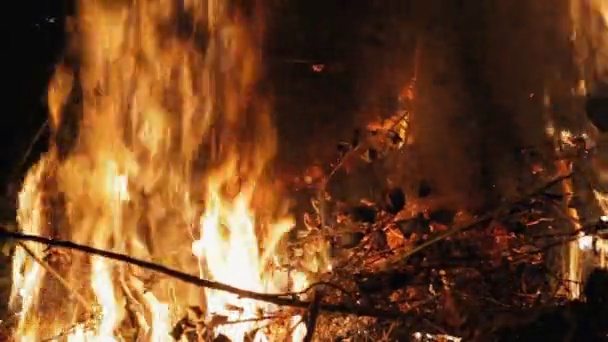fire: (8, 1, 305, 342), (570, 230, 607, 299)
